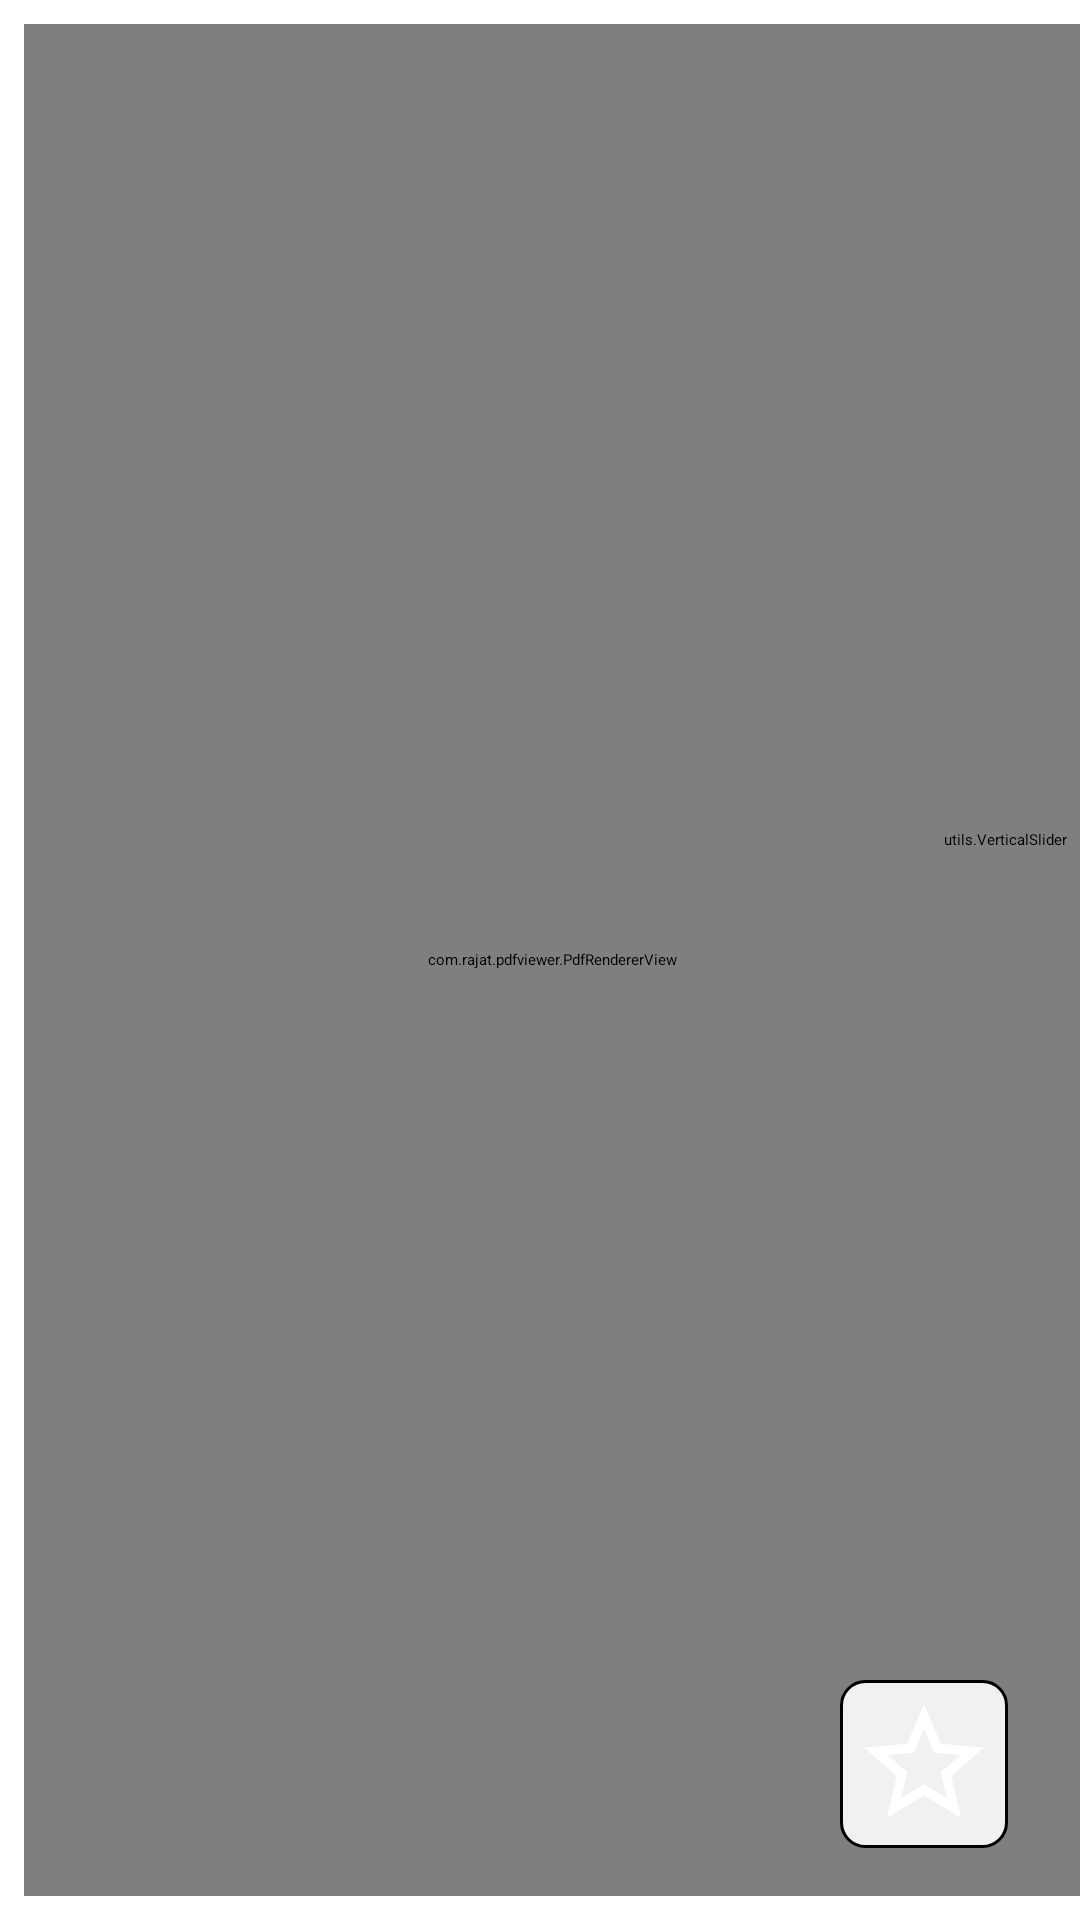

Point at icon controls on the screen. Image size 1080 × 1920, points as [x,y].
Image Button Favorite: [924,1764]
